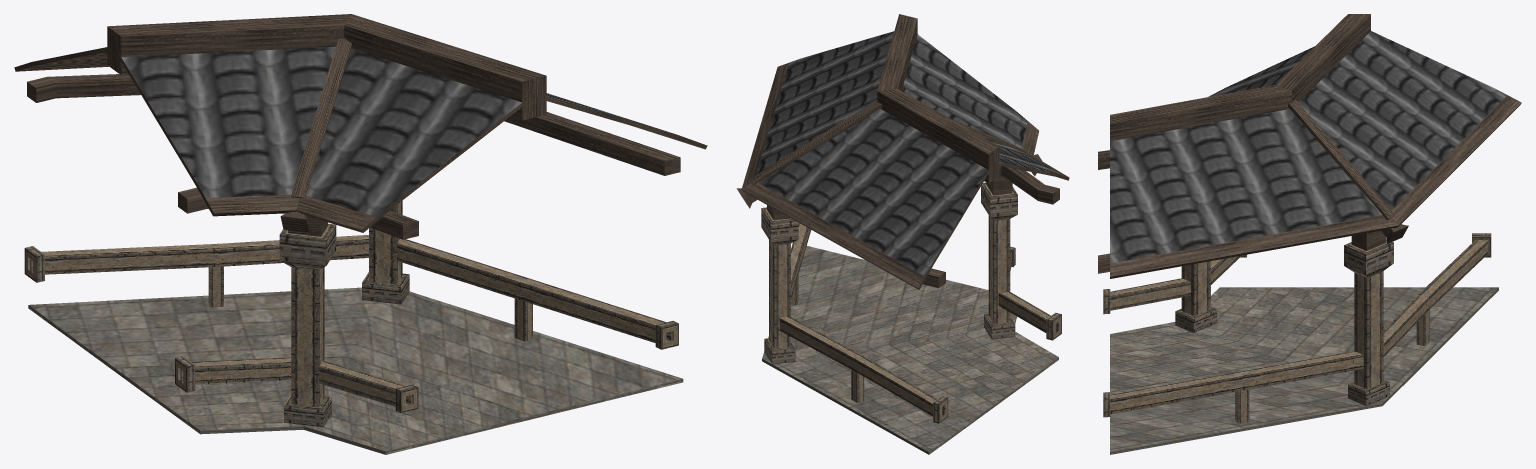
The model's file is corredorjpcurva-c.fbx.
3 renders of one model, left to right at view 1: azimuth 30°, elevation 25°; view 2: azimuth 150°, elevation 25°; view 3: azimuth 270°, elevation 25°, orthographic. The views are drawn at different scales.
Parts seen in each view (by area): view 1: Cube.001; view 2: Cube.001; view 3: Cube.001.
Boxes of the visible parts, box(x1,y1,x2,y2) form: Cube.001: box(14, 14, 707, 454); Cube.001: box(736, 14, 1069, 454); Cube.001: box(1098, 14, 1521, 454).
Bounding box in the file's own units: 4.21 × 3.08 × 4.24.
